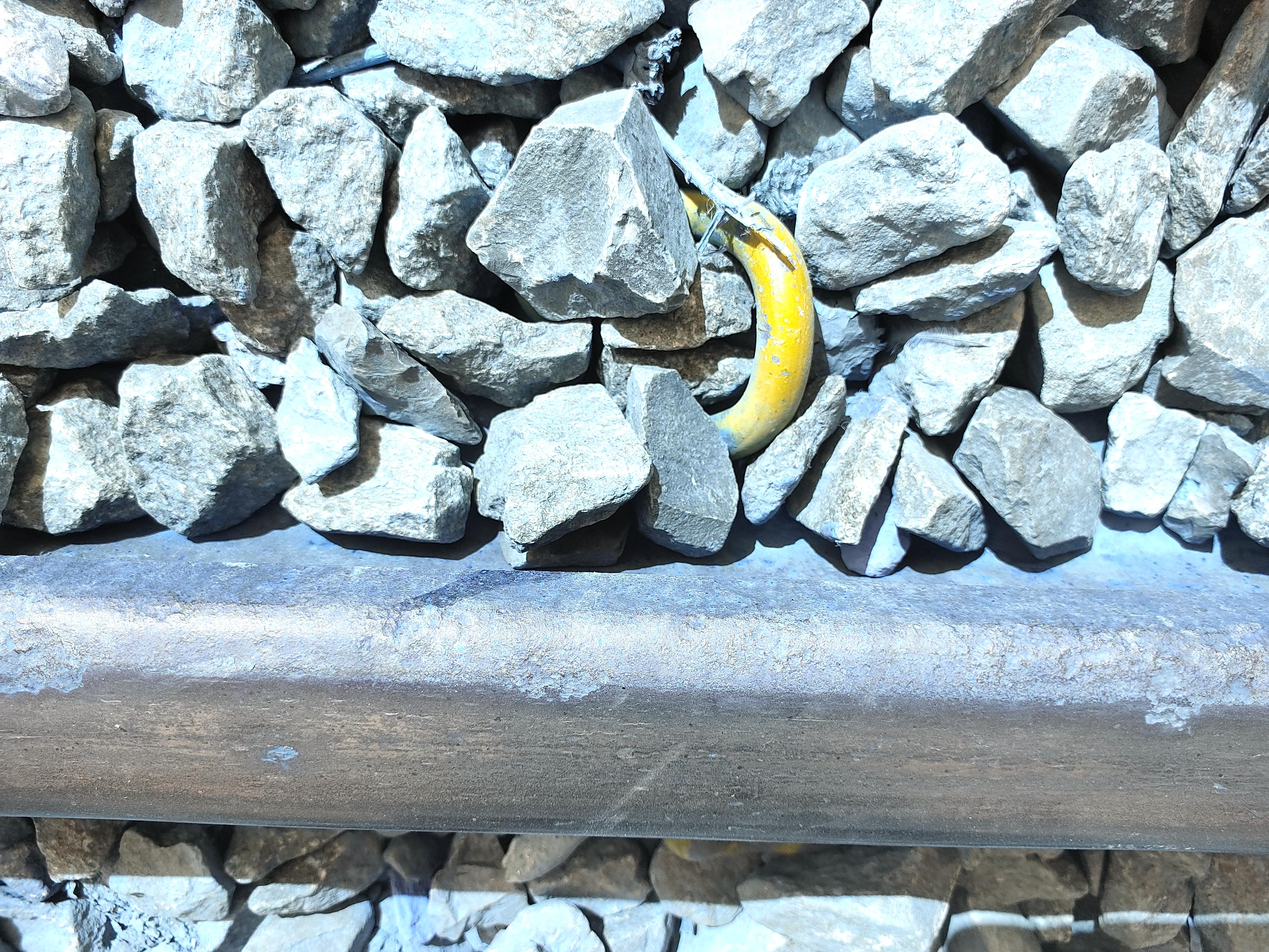Poor contact: (683, 182, 830, 447)
